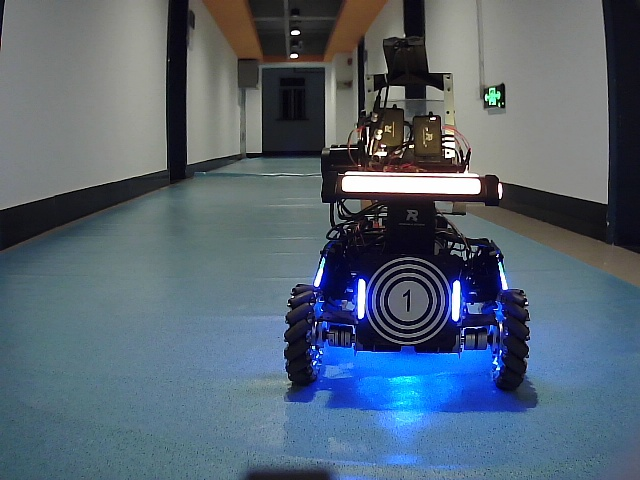lamp: (353, 272, 370, 324), (448, 272, 464, 324)
pair: (357, 278, 462, 321)
